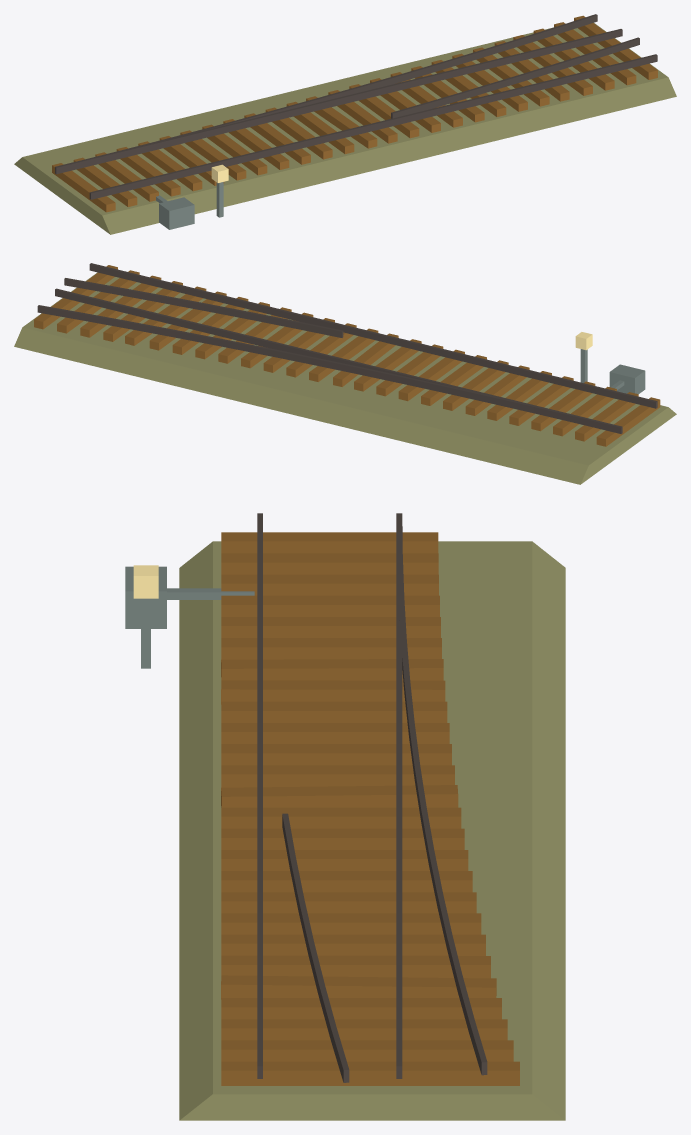
The model's file is SM_Via_DesvioIzq_v1_Madera_LOD0.fbx.
The picture shows the model from 3 angles, top to bottom: view 1: azimuth 30°, elevation 25°; view 2: azimuth 150°, elevation 25°; view 3: azimuth 270°, elevation 25°; orthographic projection. The views are drawn at different scales.
Visible parts, largest first — view 1: SM_via_trazado_v26_LOD0; view 2: SM_via_trazado_v26_LOD0; view 3: SM_via_trazado_v26_LOD0.
Part boxes in pixels (bbox=[...]): SM_via_trazado_v26_LOD0: bbox=[14, 14, 676, 234]; SM_via_trazado_v26_LOD0: bbox=[14, 263, 676, 484]; SM_via_trazado_v26_LOD0: bbox=[125, 513, 565, 1120].
Size of the model in its own units: 15.78 by 1.27 by 5.28.
